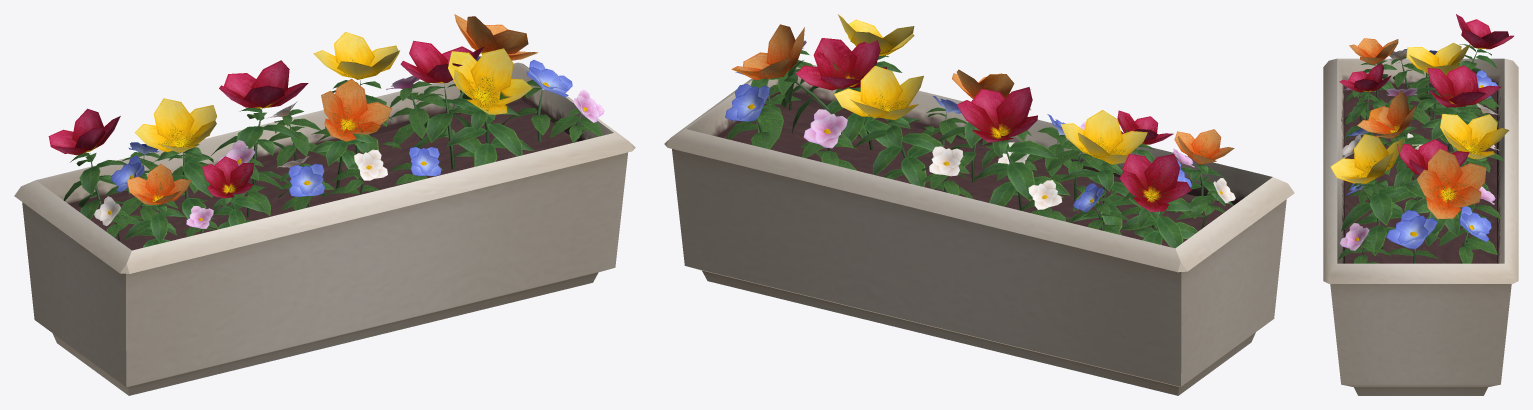
File: set_planter_03.fbx
3 views of the same model, side by side, from view 1: azimuth 30°, elevation 25°; view 2: azimuth 150°, elevation 25°; view 3: azimuth 270°, elevation 25° (orthographic). The views are drawn at different scales.
Visible parts, largest first — view 1: set_planter_03; view 2: set_planter_03; view 3: set_planter_03.
Part boxes in pixels (bbox=[...]): set_planter_03: bbox=[14, 14, 635, 395]; set_planter_03: bbox=[664, 14, 1294, 395]; set_planter_03: bbox=[1323, 14, 1518, 395].
Size of the model in its own units: 65.71 by 30.36 by 24.75.
